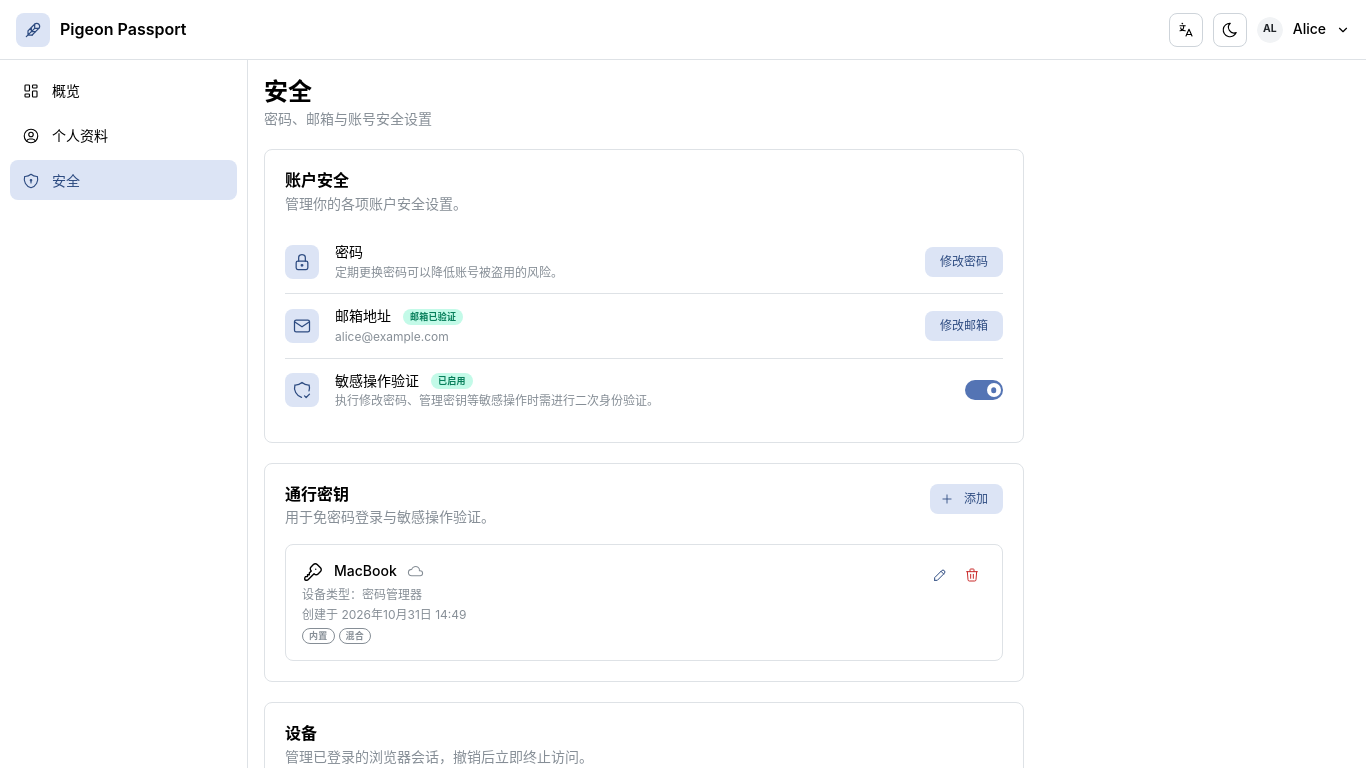
SecurityPage passkey registration › reports an authenticator that is already registered
Click the button "添加" at (966, 499), box x1=930 y1=484 x2=1003 y2=514
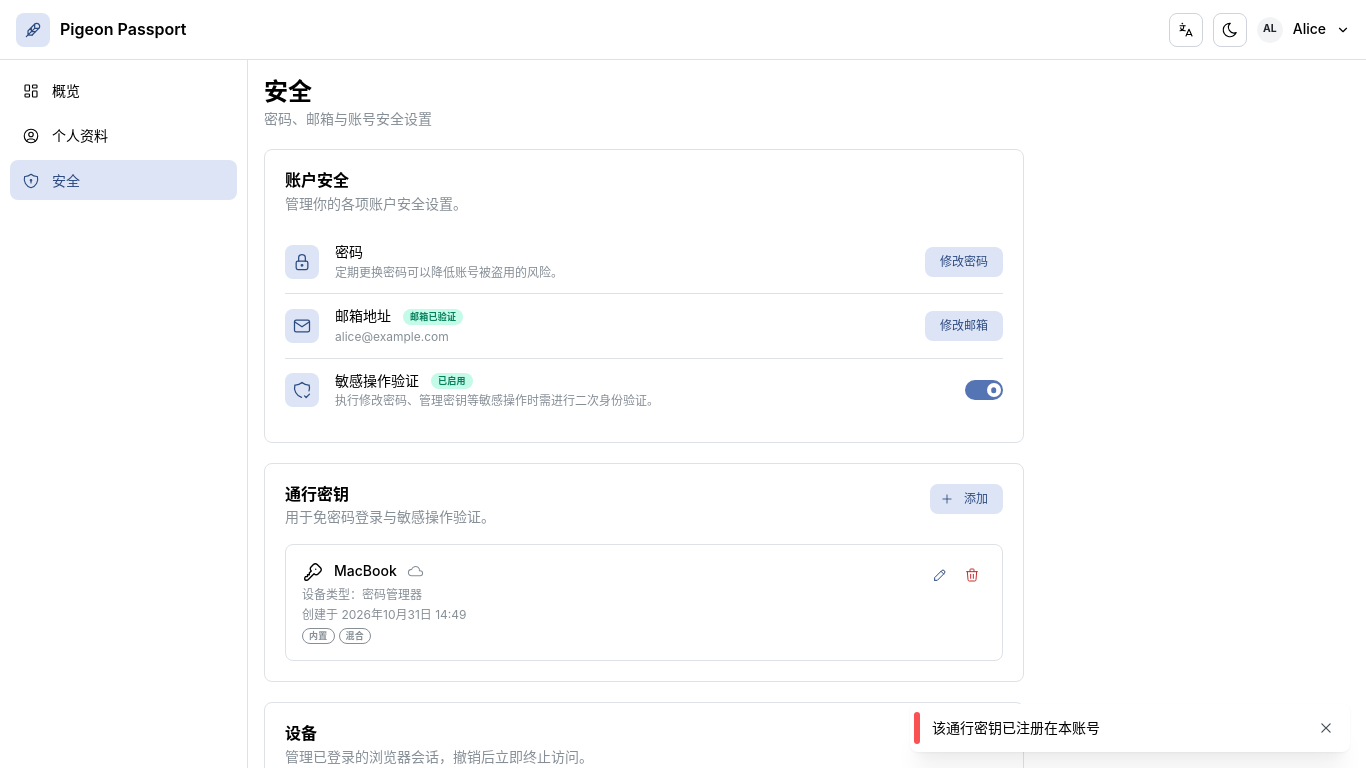
Expected: the text "该通行密钥已注册在本账号" is shown, x1=932 y1=719 x2=1100 y2=736
